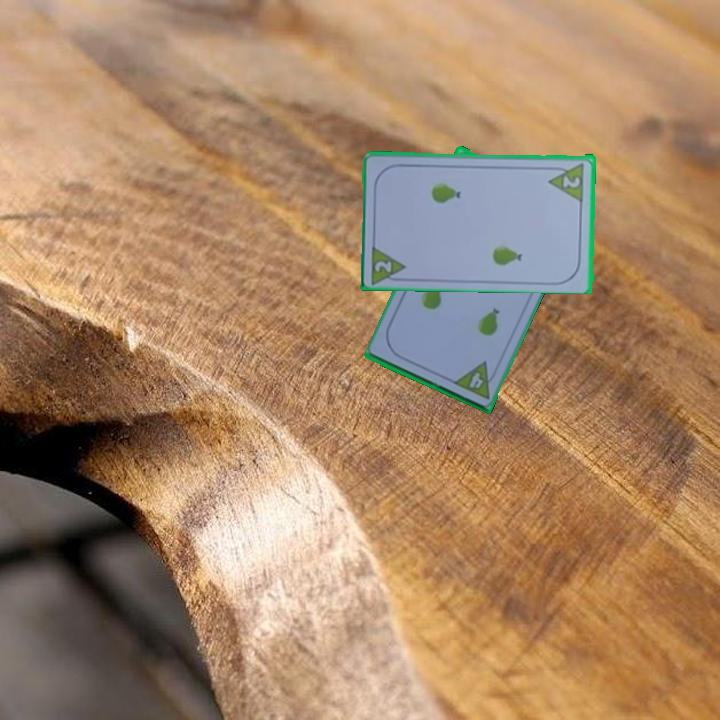2p: (368, 241, 410, 285), (559, 172, 583, 190)
4p: (450, 357, 501, 402)
